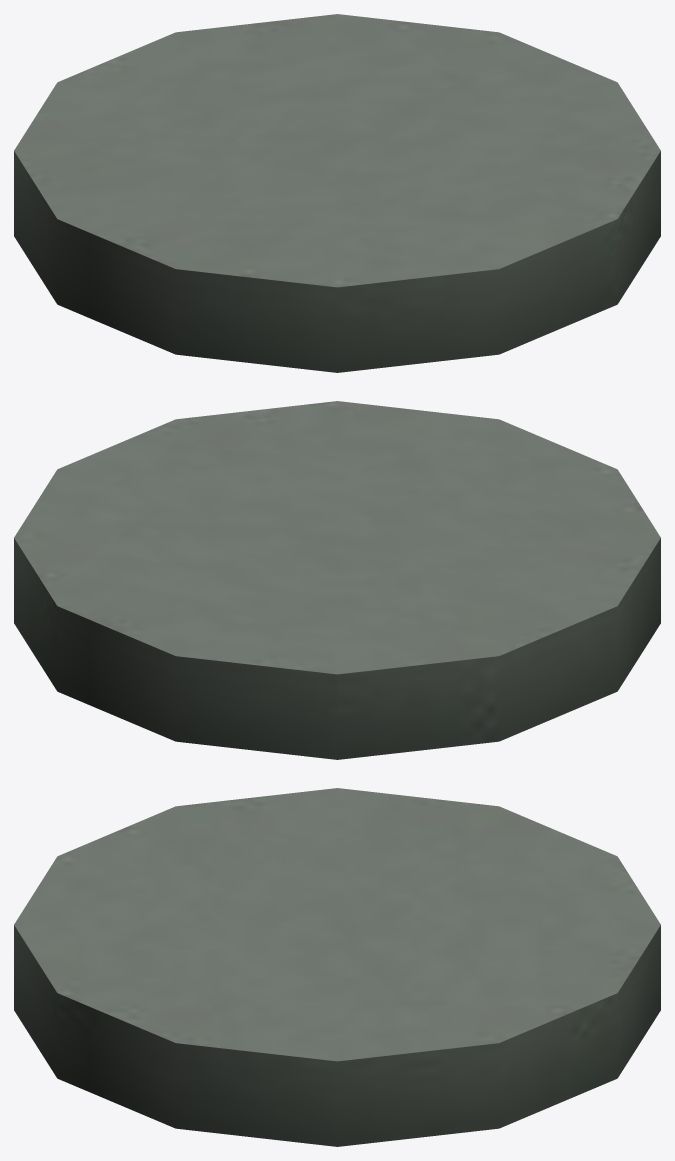
File: lithium-plate.glb
The picture shows the model from 3 angles, top to bottom: view 1: azimuth 30°, elevation 25°; view 2: azimuth 150°, elevation 25°; view 3: azimuth 270°, elevation 25°; orthographic projection.
Parts seen in each view (by area): view 1: lithium-plate; view 2: lithium-plate; view 3: lithium-plate.
Boxes of the visible parts, x1=… form: lithium-plate: x1=14, y1=14, x2=660, y2=372; lithium-plate: x1=14, y1=401, x2=660, y2=759; lithium-plate: x1=14, y1=788, x2=660, y2=1146.
Size of the model in its own units: 0.24 by 0.035 by 0.24.
Materials: 1 (1 with a texture image).
